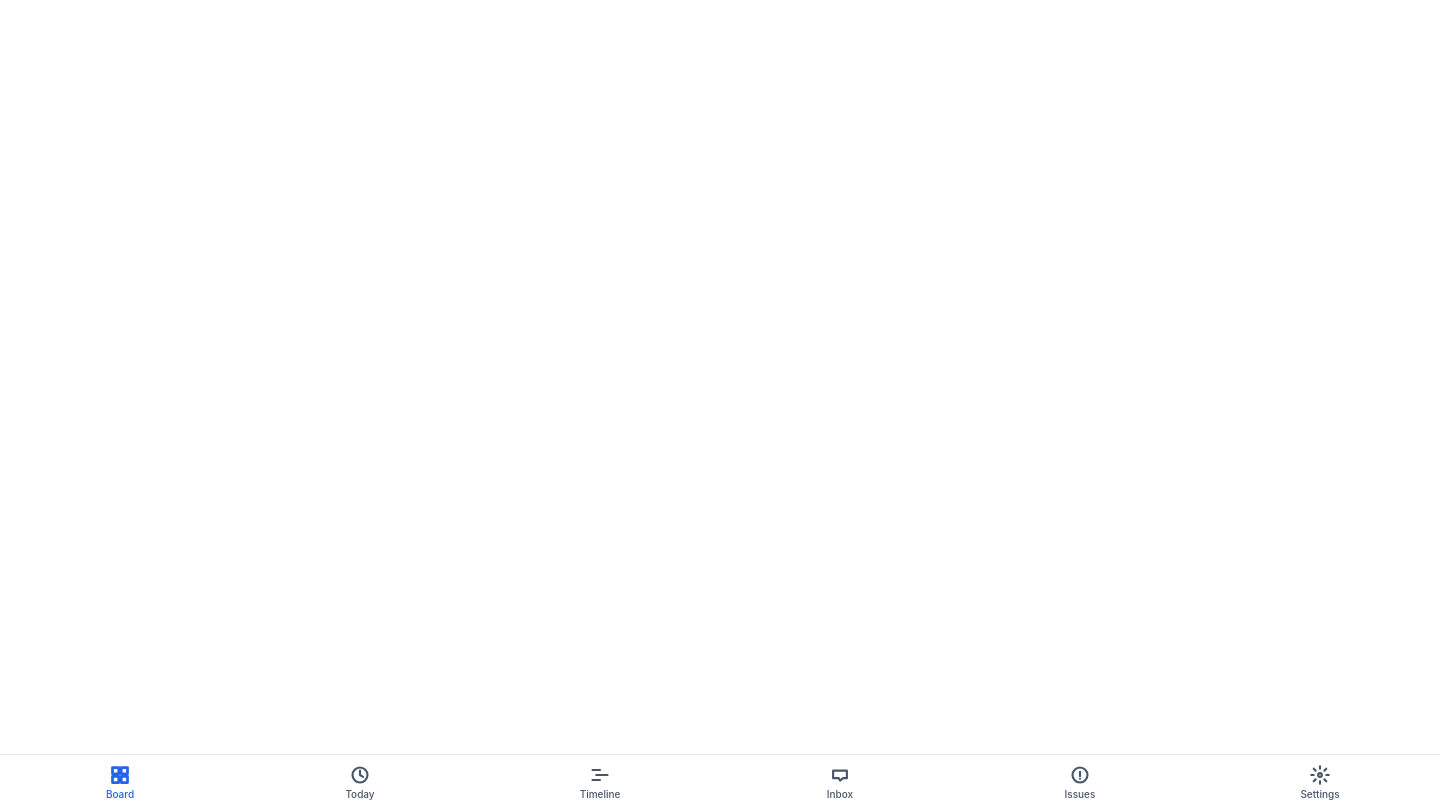
TC-002: Tapping Settings tab opens SettingsModal › opens SettingsModal (role=dialog) when Settings tab is tapped
What coordinates should you click on to do the following:
click the button "Settings"
I would click on:
 (1320, 782)
Its box is [1200, 755, 1439, 809].
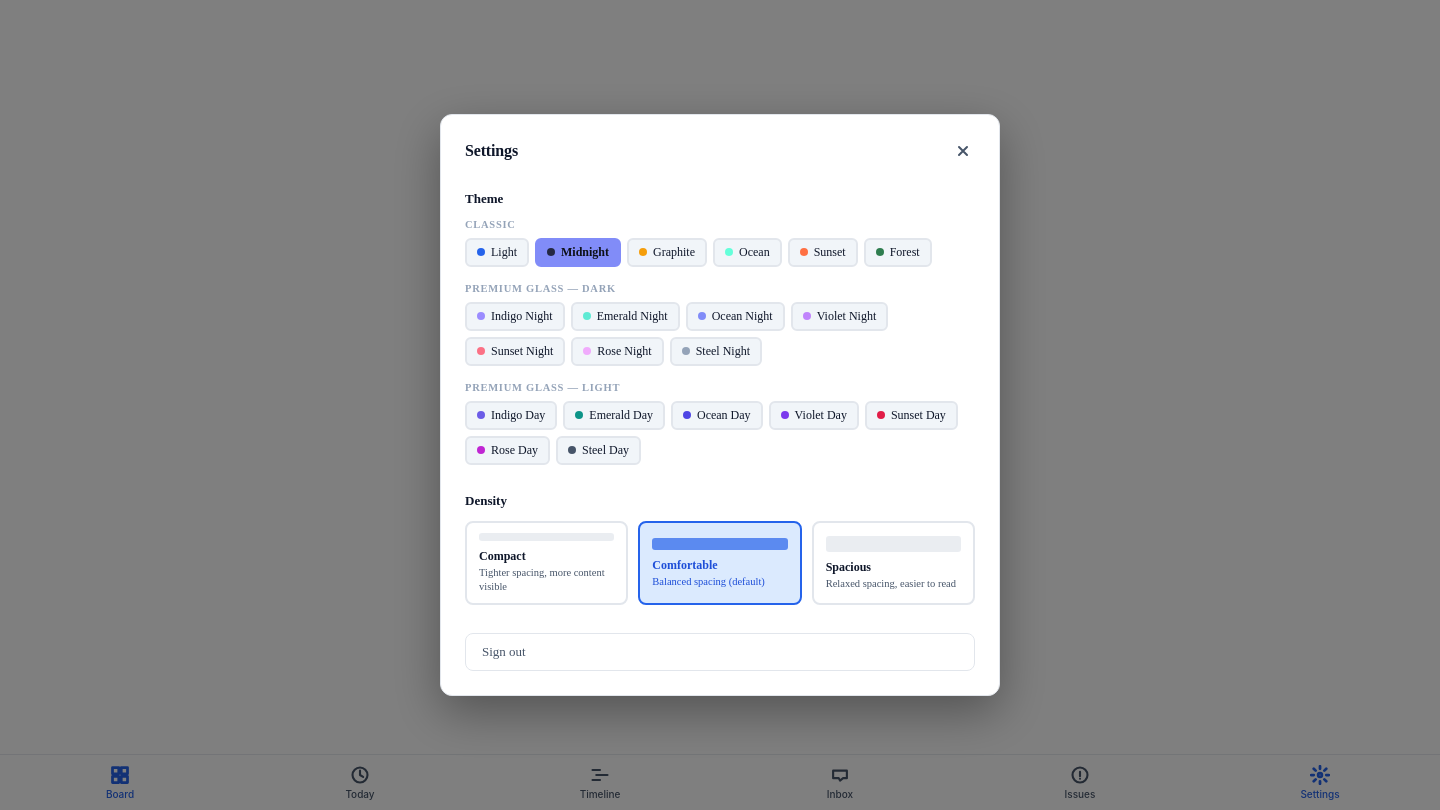
expect the dialog is shown: met, box [440, 114, 1000, 696]
